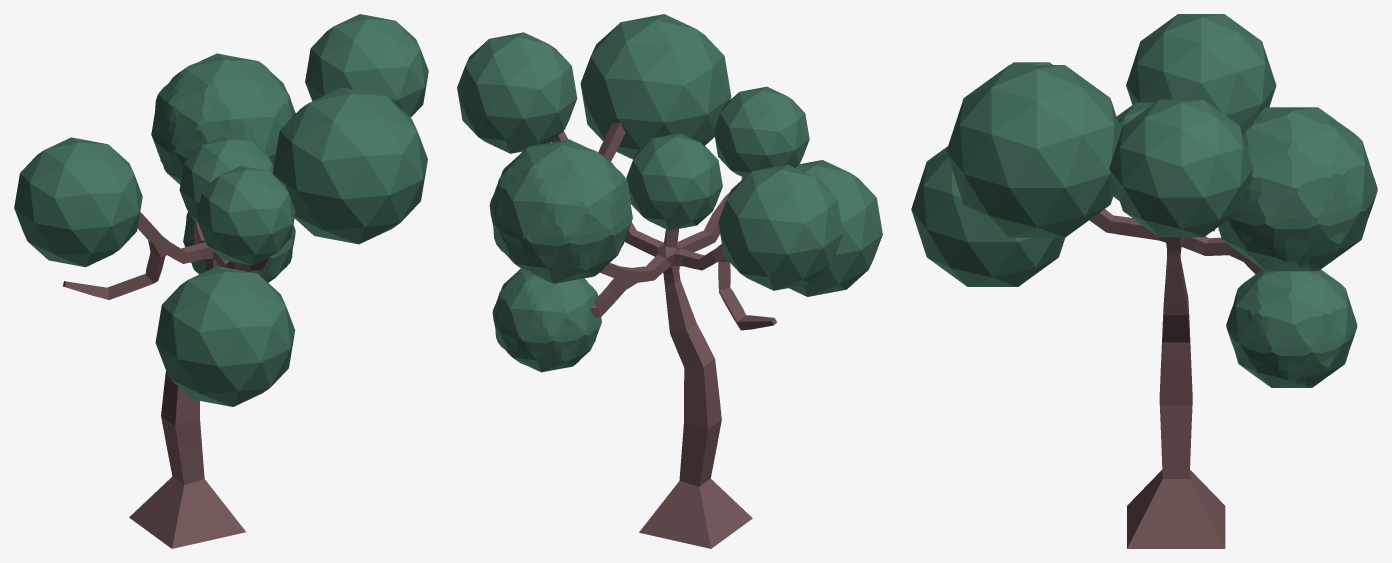
The model's file is arvore teste1.fbx.
3 renders of one model, left to right at view 1: azimuth 30°, elevation 25°; view 2: azimuth 150°, elevation 25°; view 3: azimuth 270°, elevation 25°, orthographic. The views are drawn at different scales.
Parts seen in each view (by area): view 1: Cube.005; view 2: Cube.005; view 3: Cube.005.
Part boxes in pixels (box(x1,y1,x2,y2)): Cube.005: box(14, 14, 428, 548); Cube.005: box(457, 14, 882, 548); Cube.005: box(911, 14, 1377, 548).
Size of the model in its own units: 944 by 1075 by 864.
